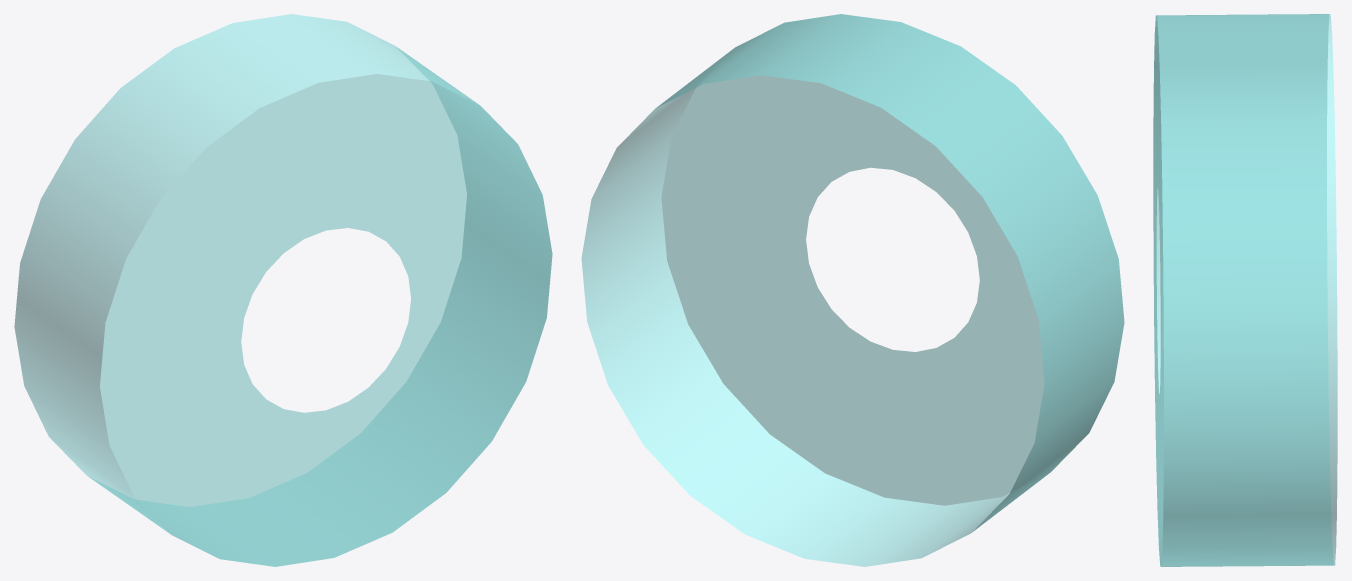
The model's file is original-4.obj.
3 renders of one model, left to right at view 1: azimuth 30°, elevation 25°; view 2: azimuth 150°, elevation 25°; view 3: azimuth 270°, elevation 25°, orthographic. The views are drawn at different scales.
Visible parts, largest first — view 1: #ID24; view 2: #ID24; view 3: #ID24.
Part boxes in pixels (box(x1,y1,x2,y2)): #ID24: box(14, 14, 552, 566); #ID24: box(581, 14, 1124, 566); #ID24: box(1153, 14, 1337, 566).
Size of the model in its own units: 0.159 by 0.1581 by 0.0525.
